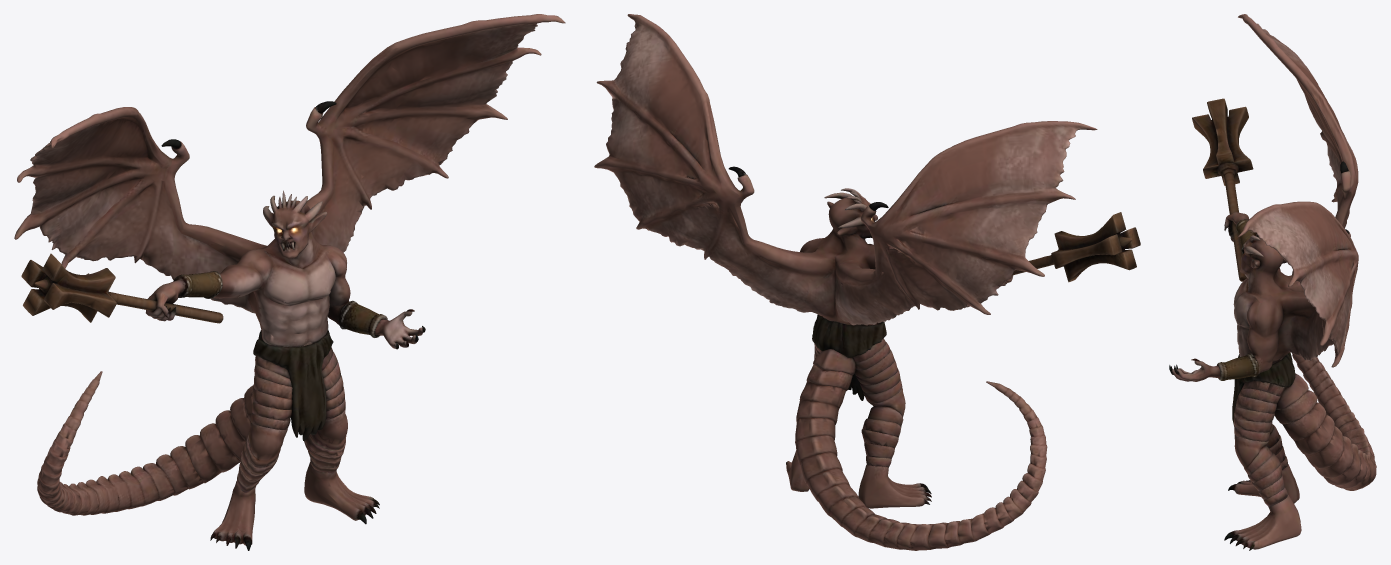
The model's file is MZ4250 - Hutijin.glb.
The picture shows the model from 3 angles, left to right: view 1: azimuth 30°, elevation 25°; view 2: azimuth 150°, elevation 25°; view 3: azimuth 270°, elevation 25°; orthographic projection. The views are drawn at different scales.
Parts seen in each view (by area): view 1: Balor.002; view 2: Balor.002; view 3: Balor.002.
Part boxes in pixels (left/top/right/bottom): Balor.002: left=14, top=14, right=565, bottom=550; Balor.002: left=594, top=14, right=1140, bottom=550; Balor.002: left=1169, top=14, right=1376, bottom=550.
Bounding box in the file's own units: 2.87 × 2.27 × 1.06.
1 material, 1 textured.
